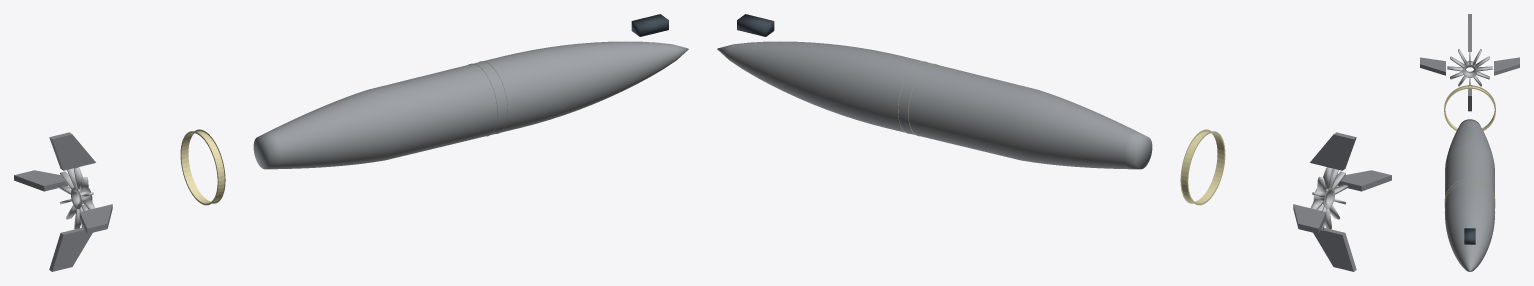
The model's file is US_TORP_Mk37_LOD0.fbx.
The picture shows the model from 3 angles, left to right: view 1: azimuth 30°, elevation 25°; view 2: azimuth 150°, elevation 25°; view 3: azimuth 270°, elevation 25°; orthographic projection. The views are drawn at different scales.
Visible parts, largest first — view 1: WPN_US_TORP_Mk37_LOD0_Body, WPN_US_TORP_Mk37_LOD0_Fins, WPN_US_TORP_Mk37_LOD0_Marking, WPN_US_TORP_Mk37_LOD0_Propulsor, WPN_US_TORP_Mk37_LOD0_Seeker; view 2: WPN_US_TORP_Mk37_LOD0_Body, WPN_US_TORP_Mk37_LOD0_Fins, WPN_US_TORP_Mk37_LOD0_Marking, WPN_US_TORP_Mk37_LOD0_Propulsor, WPN_US_TORP_Mk37_LOD0_Seeker; view 3: WPN_US_TORP_Mk37_LOD0_Body, WPN_US_TORP_Mk37_LOD0_Fins, WPN_US_TORP_Mk37_LOD0_Propulsor, WPN_US_TORP_Mk37_LOD0_Marking, WPN_US_TORP_Mk37_LOD0_Seeker.
Part boxes in pixels (left/top/right/bottom): WPN_US_TORP_Mk37_LOD0_Body: left=253, top=41, right=688, bottom=169; WPN_US_TORP_Mk37_LOD0_Fins: left=14, top=132, right=112, bottom=271; WPN_US_TORP_Mk37_LOD0_Marking: left=180, top=61, right=507, bottom=205; WPN_US_TORP_Mk37_LOD0_Propulsor: left=58, top=167, right=95, bottom=230; WPN_US_TORP_Mk37_LOD0_Seeker: left=631, top=14, right=668, bottom=36; WPN_US_TORP_Mk37_LOD0_Body: left=717, top=41, right=1152, bottom=169; WPN_US_TORP_Mk37_LOD0_Fins: left=1293, top=132, right=1391, bottom=271; WPN_US_TORP_Mk37_LOD0_Marking: left=898, top=61, right=1225, bottom=205; WPN_US_TORP_Mk37_LOD0_Propulsor: left=1310, top=167, right=1347, bottom=230; WPN_US_TORP_Mk37_LOD0_Seeker: left=737, top=14, right=774, bottom=36; WPN_US_TORP_Mk37_LOD0_Body: left=1444, top=119, right=1495, bottom=271; WPN_US_TORP_Mk37_LOD0_Fins: left=1420, top=14, right=1519, bottom=111; WPN_US_TORP_Mk37_LOD0_Propulsor: left=1447, top=49, right=1492, bottom=89; WPN_US_TORP_Mk37_LOD0_Marking: left=1444, top=85, right=1495, bottom=207; WPN_US_TORP_Mk37_LOD0_Seeker: left=1464, top=228, right=1475, bottom=244.
Bounding box in the file's own units: 4.82 × 0.9576 × 0.9576.
